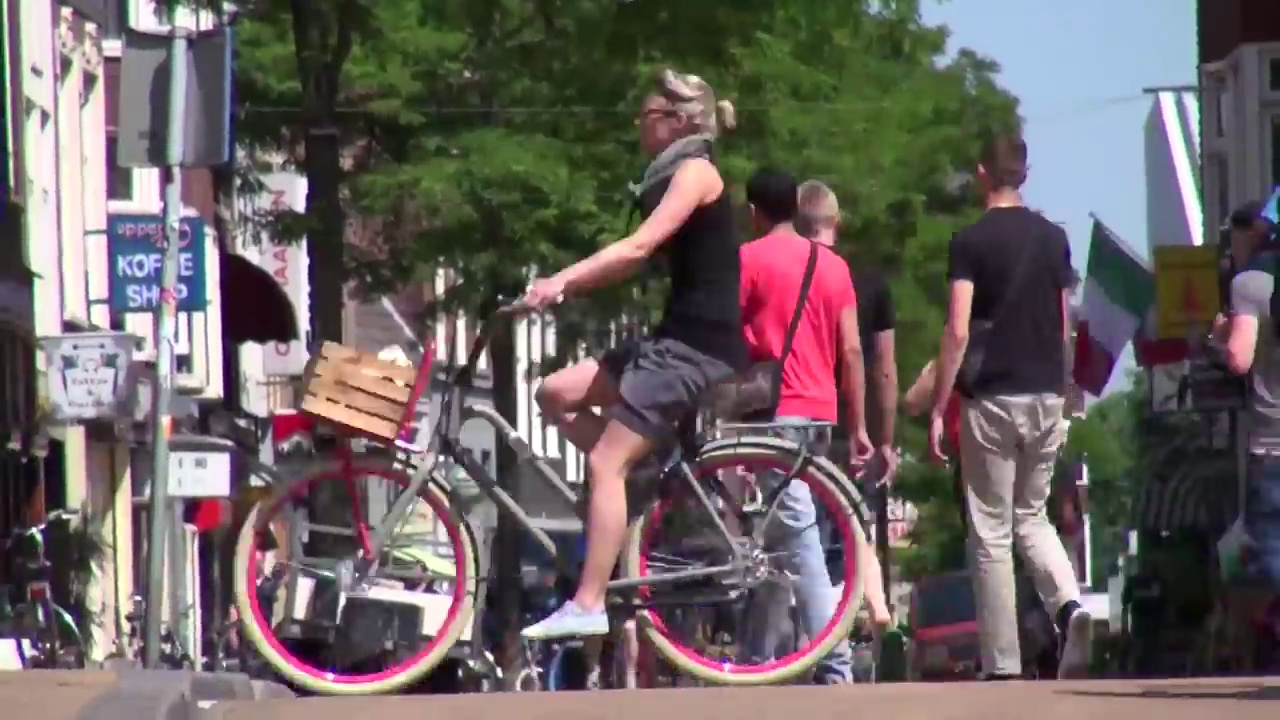cyclist_side: (223, 59, 883, 697)
